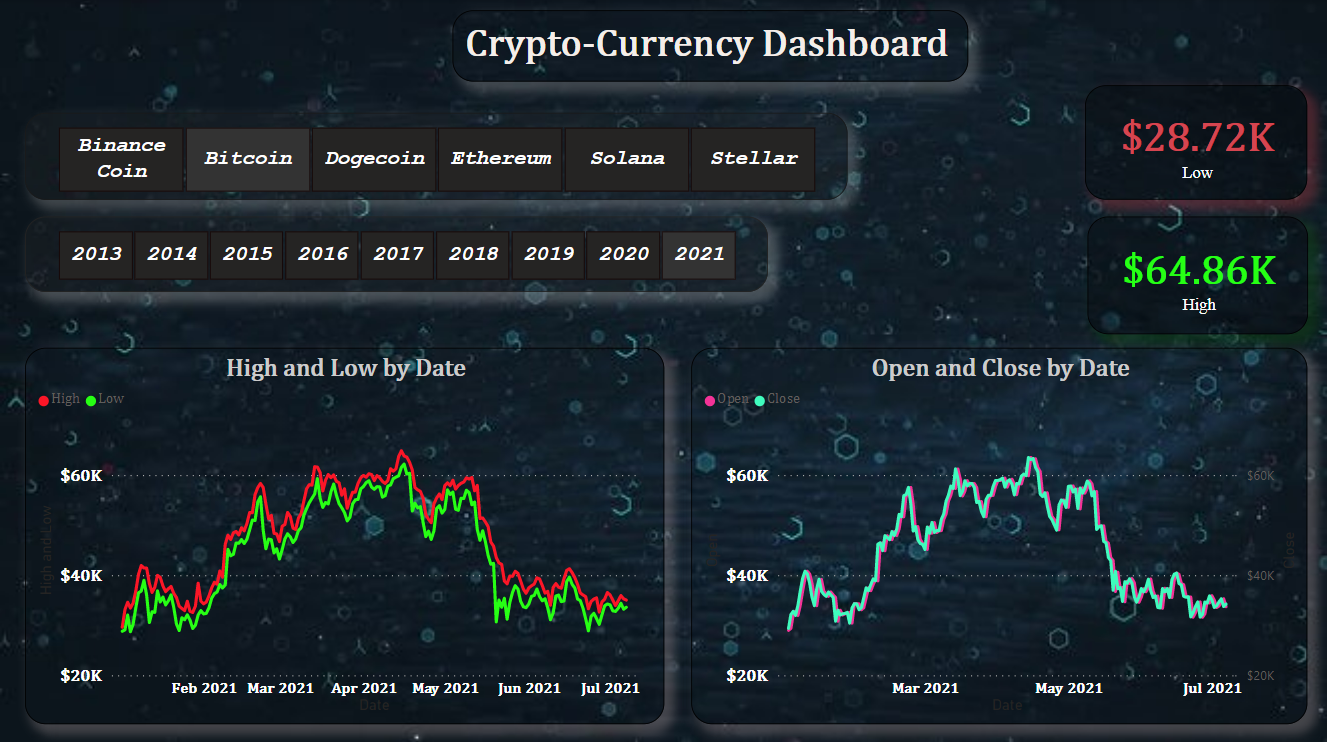

The dashboard page shown, as its layout file describes it:
{"tool":"powerbi","page":{"name":"Page2","canvas":[1280,720],"ordinal":1},"visuals":[{"type":"slicer","fields":{"Values":["CryptoCurrencyData.Name"]},"box":[23.8,109.4,793.5,84.1],"z":0},{"type":"slicer","fields":{"Values":["CryptoCurrencyData.Year"]},"box":[23.8,210.3,716.4,72.9],"z":1000},{"type":"lineChart","fields":{"Category":["CryptoCurrencyData.Date"],"Y":["Sum(CryptoCurrencyData.High)","Sum(CryptoCurrencyData.Low)"]},"box":[23.8,336.5,616.9,363.1],"z":2000},{"type":"textbox","box":[436,11.2,497.7,68.7],"z":5000},{"type":"card","fields":{"Values":["Min(CryptoCurrencyData.Low)"]},"box":[1047.3,82.7,214.5,110.8],"z":5001},{"type":"card","fields":{"Values":["Max(CryptoCurrencyData.High)"]},"box":[1048.7,210.3,213.1,113.6],"z":5004},{"type":"lineChart","fields":{"Category":["CryptoCurrencyData.Date"],"Y":["Sum(CryptoCurrencyData.Open)"],"Y2":["Sum(CryptoCurrencyData.Close)"]},"box":[667.3,336.5,594.4,363.1],"z":5005}]}

Visuals, with their boxes in screenshot pixels (x1, y1, x2, y2), scaled from the page's 1280x720 canvas onto the 1327x742 screenshot:
slicer - CryptoCurrencyData.Name: (25, 113, 847, 199)
slicer - CryptoCurrencyData.Year: (25, 217, 767, 292)
lineChart - CryptoCurrencyData.Date x Sum(CryptoCurrencyData.High): (25, 347, 664, 721)
textbox: (452, 12, 968, 82)
card - Min(CryptoCurrencyData.Low): (1086, 85, 1308, 199)
card - Max(CryptoCurrencyData.High): (1087, 217, 1308, 334)
lineChart - CryptoCurrencyData.Date x Sum(CryptoCurrencyData.Open): (692, 347, 1308, 721)
